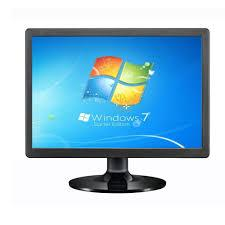monitor: (21, 26, 212, 198)
